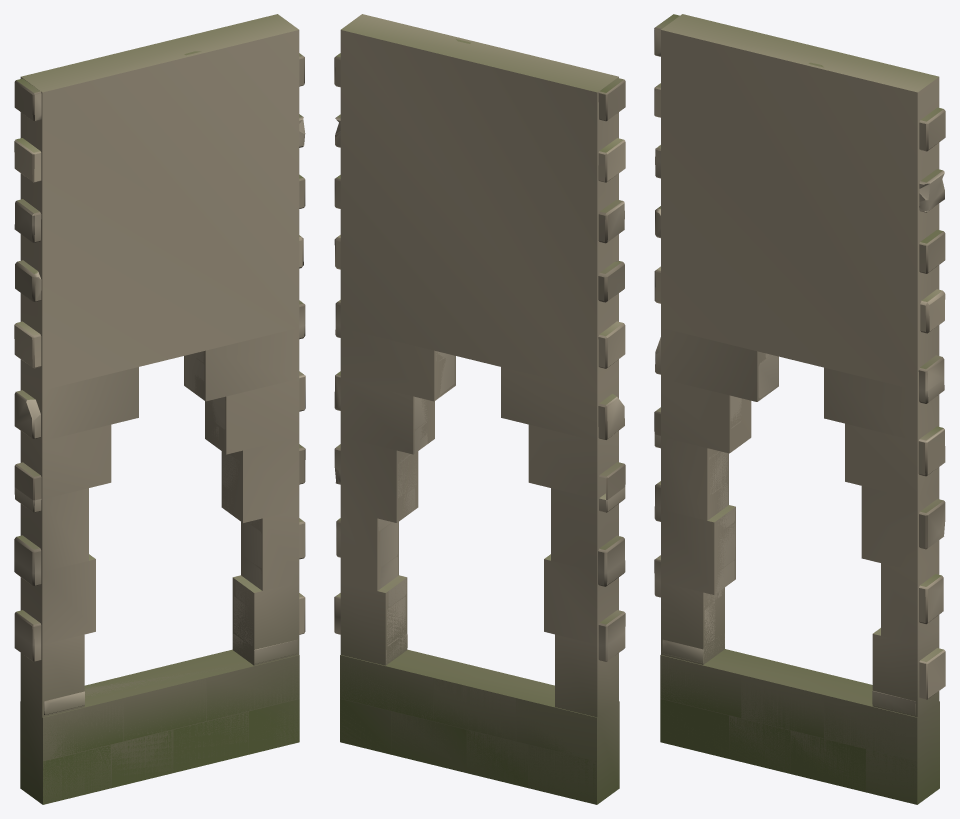
File: agora_stoa_wall_holed.glb
3 views of the same model, side by side, from view 1: azimuth 30°, elevation 25°; view 2: azimuth 150°, elevation 25°; view 3: azimuth 330°, elevation 25° (orthographic).
Parts seen in each view (by area): view 1: agora_stoa_wall_holed_far, agora_stoa_wall_holed; view 2: agora_stoa_wall_holed_far, agora_stoa_wall_holed; view 3: agora_stoa_wall_holed_far, agora_stoa_wall_holed.
Boxes of the visible parts, <box> form: agora_stoa_wall_holed_far: <box>20,14,299,804</box>; agora_stoa_wall_holed: <box>14,51,305,803</box>; agora_stoa_wall_holed_far: <box>340,14,619,804</box>; agora_stoa_wall_holed: <box>334,39,625,799</box>; agora_stoa_wall_holed_far: <box>660,14,939,804</box>; agora_stoa_wall_holed: <box>654,14,945,802</box>.
Size of the model in its own units: 19.7 by 49 by 2.8.
